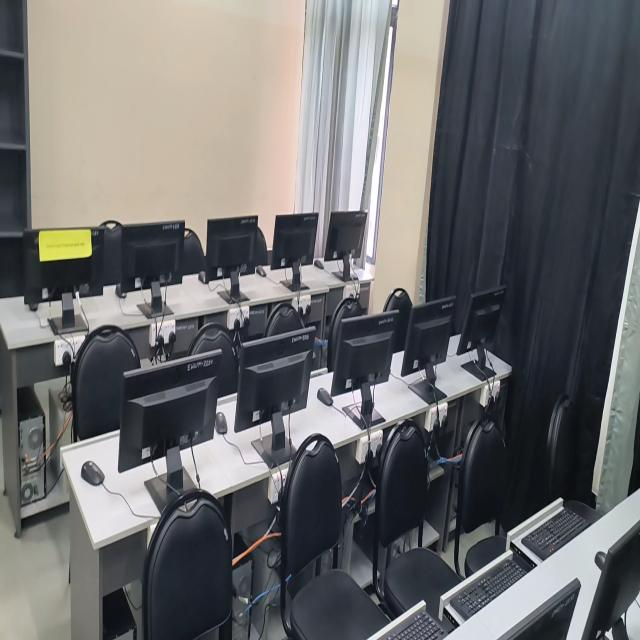Chair: (279, 434, 391, 639), (373, 420, 461, 620), (142, 489, 233, 639), (454, 413, 506, 578), (71, 325, 140, 440), (188, 323, 238, 396), (541, 395, 574, 500), (327, 295, 364, 372), (383, 289, 412, 351), (100, 221, 122, 284), (264, 303, 304, 337), (182, 228, 205, 280)
Cpu: (18, 387, 46, 505), (103, 588, 136, 639), (233, 560, 252, 639)
Keyboard: (440, 550, 529, 627), (510, 501, 601, 565), (368, 600, 448, 639)
Monitor: (118, 350, 224, 472), (234, 327, 315, 432), (581, 521, 640, 639), (331, 311, 399, 396), (24, 229, 93, 305), (204, 217, 259, 302), (120, 221, 184, 293), (401, 296, 456, 376), (271, 213, 318, 291), (456, 285, 506, 355), (517, 590, 578, 639), (325, 210, 367, 281)
Mouse: (81, 460, 105, 485), (317, 388, 333, 406), (215, 411, 227, 434), (595, 551, 607, 571), (198, 270, 207, 283), (256, 266, 266, 276), (314, 260, 324, 268)
